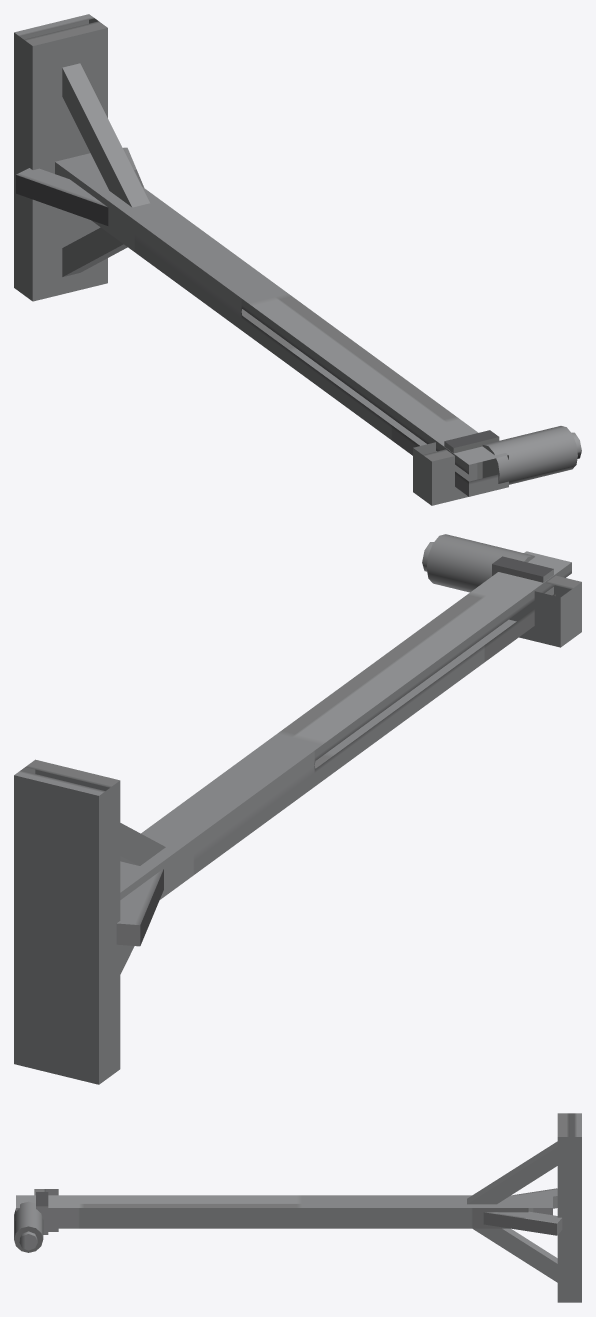
The picture shows the model from 3 angles, top to bottom: view 1: azimuth 30°, elevation 25°; view 2: azimuth 150°, elevation 25°; view 3: azimuth 270°, elevation 25°; orthographic projection. The views are drawn at different scales.
Size of the model in its own units: 0.5014 by 0.8087 by 2.51.
